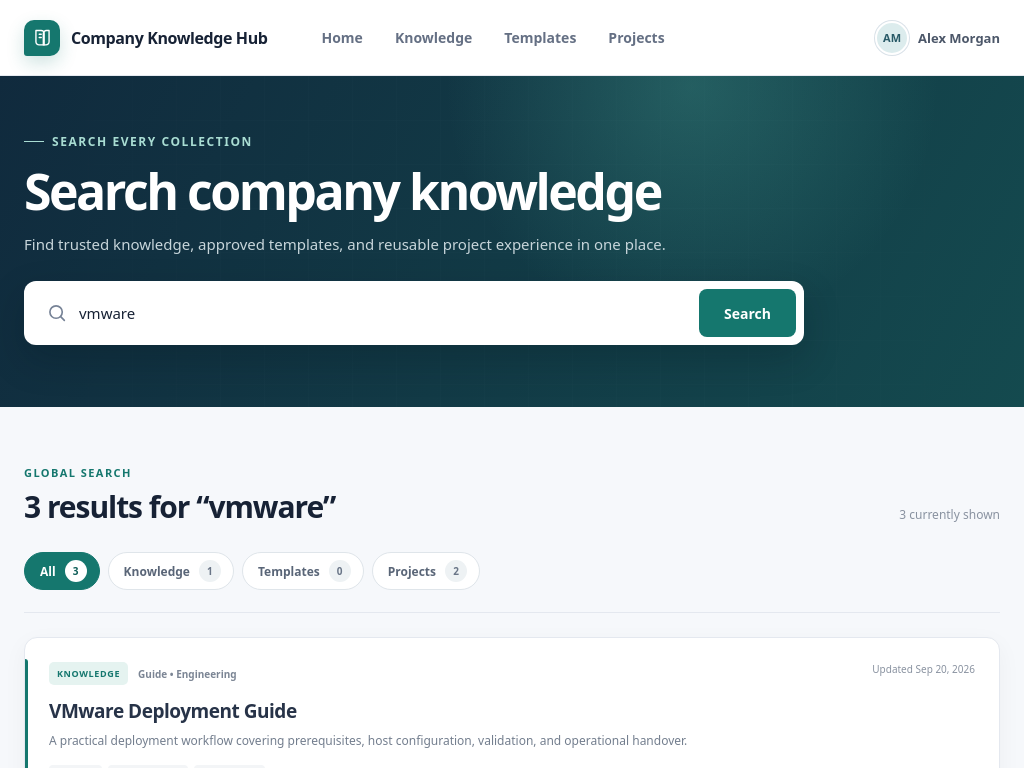
it: SearchResultsPage › shows cross-library results and filters them by type
Expected: the heading "3 results for “vmware”" is shown, [24,486,335,527]
Click the button with aria-label "Projects, 2 results". click: (426, 571)
box: [372,552,480,590]
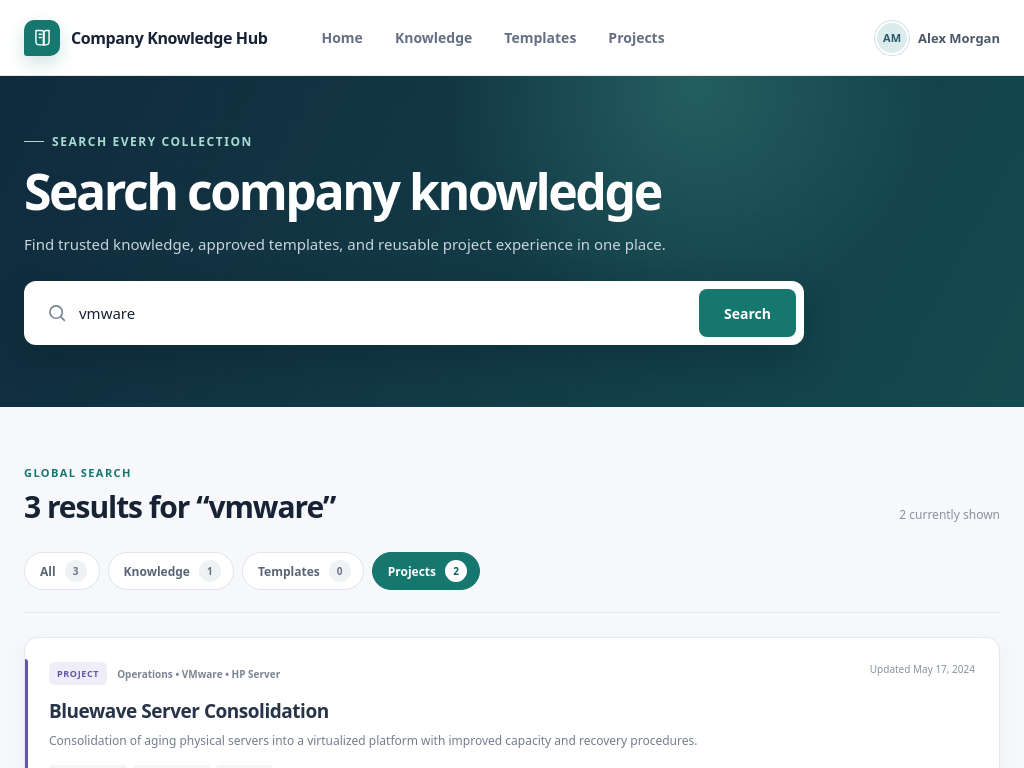
Expected: the link "Bluewave Server Consolidation" is shown, [49,698,329,724]
Expected: the text "2 currently shown" is shown, [899,506,1000,523]
Expected: the link "VMware Deployment Guide" is gone
